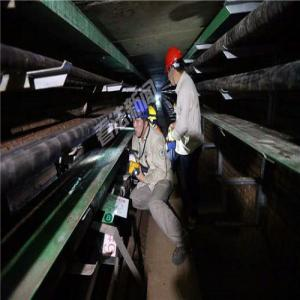blue: (132, 100, 149, 140)
red: (165, 44, 187, 93)
